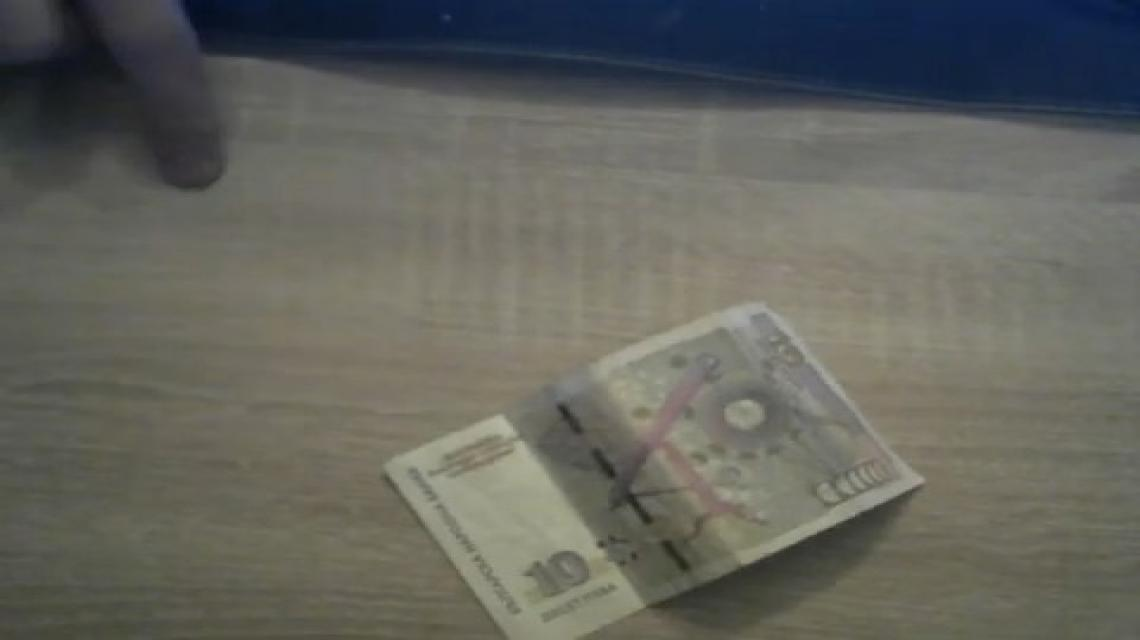10leva: (382, 304, 924, 640)
